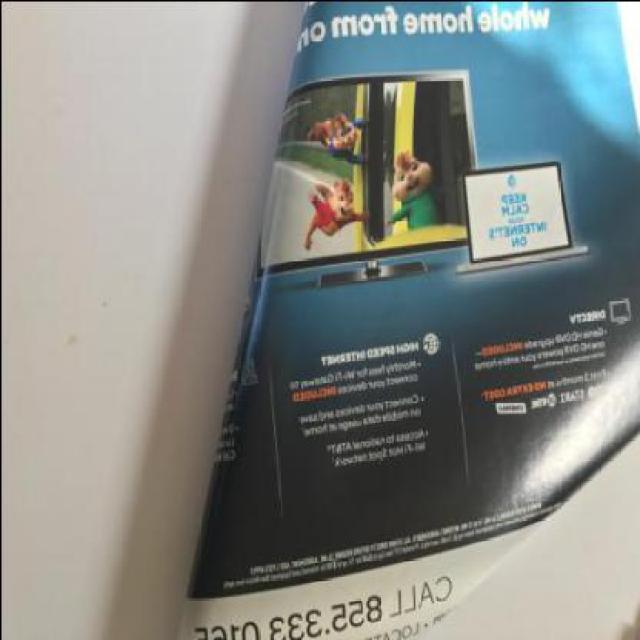PAPER: (173, 1, 638, 640)
